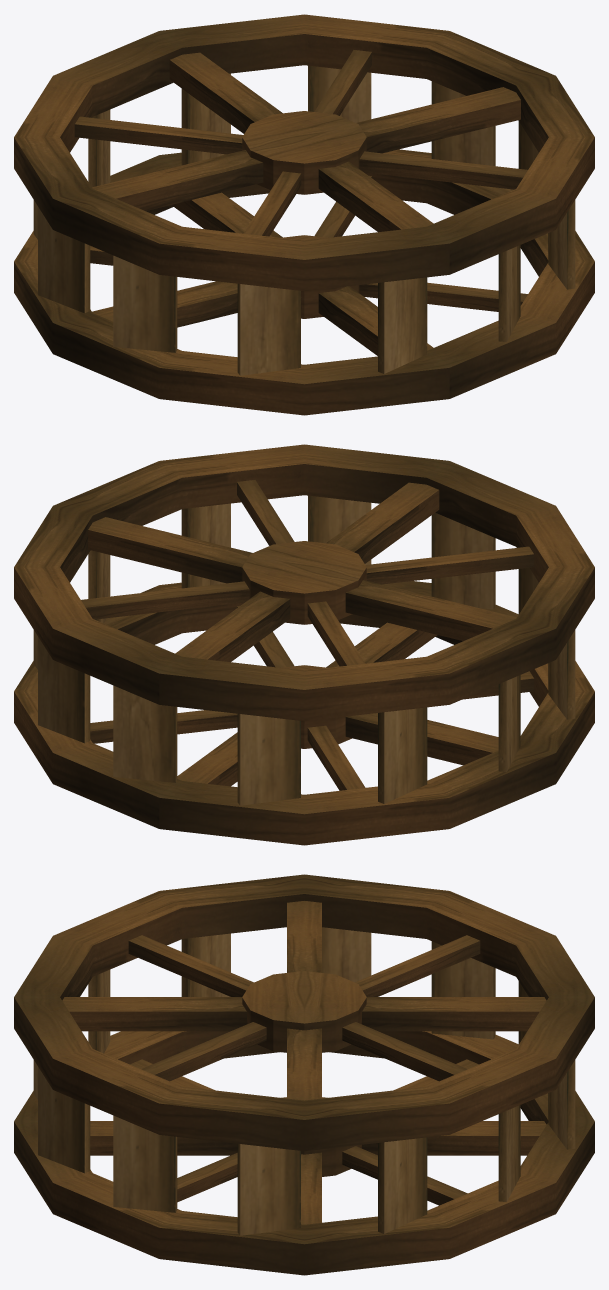
File: Water_Mill_Wheel.fbx
3 views of the same model, one above another, from view 1: azimuth 30°, elevation 25°; view 2: azimuth 150°, elevation 25°; view 3: azimuth 270°, elevation 25° (orthographic).
Parts seen in each view (by area): view 1: Water_Mill_Wheel; view 2: Water_Mill_Wheel; view 3: Water_Mill_Wheel.
Boxes of the visible parts, box(x1,y1,x2,y2) form: Water_Mill_Wheel: box(14, 14, 594, 415); Water_Mill_Wheel: box(14, 444, 594, 845); Water_Mill_Wheel: box(14, 874, 594, 1275).
Size of the model in its own units: 52.24 by 15.42 by 52.24.
